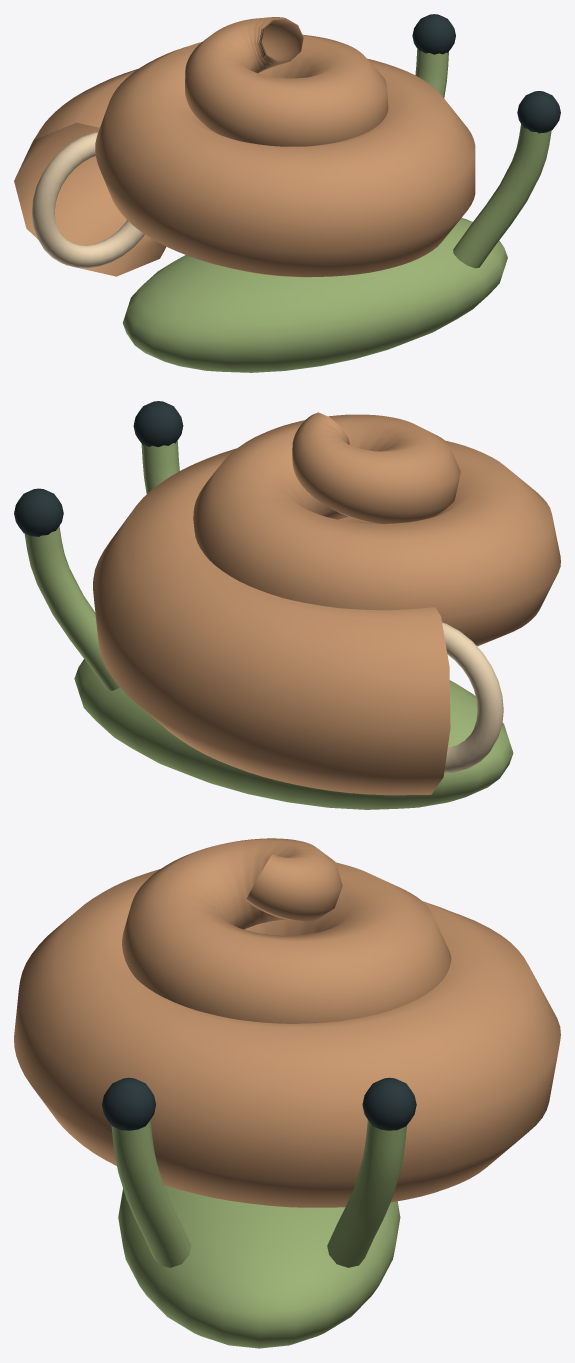
File: periwinkle.glb
3 renders of one model, top to bottom at view 1: azimuth 30°, elevation 25°; view 2: azimuth 150°, elevation 25°; view 3: azimuth 270°, elevation 25°, orthographic. The views are drawn at different scales.
Parts seen in each view (by area): view 1: periwinkle_textured_mesh; view 2: periwinkle_textured_mesh; view 3: periwinkle_textured_mesh.
Boxes of the visible parts, bbox=[...] form: periwinkle_textured_mesh: bbox=[14, 14, 560, 372]; periwinkle_textured_mesh: bbox=[14, 401, 560, 809]; periwinkle_textured_mesh: bbox=[14, 838, 560, 1348].
Size of the model in its own units: 1.67 by 1.25 by 1.51.
1 material, 1 textured.
